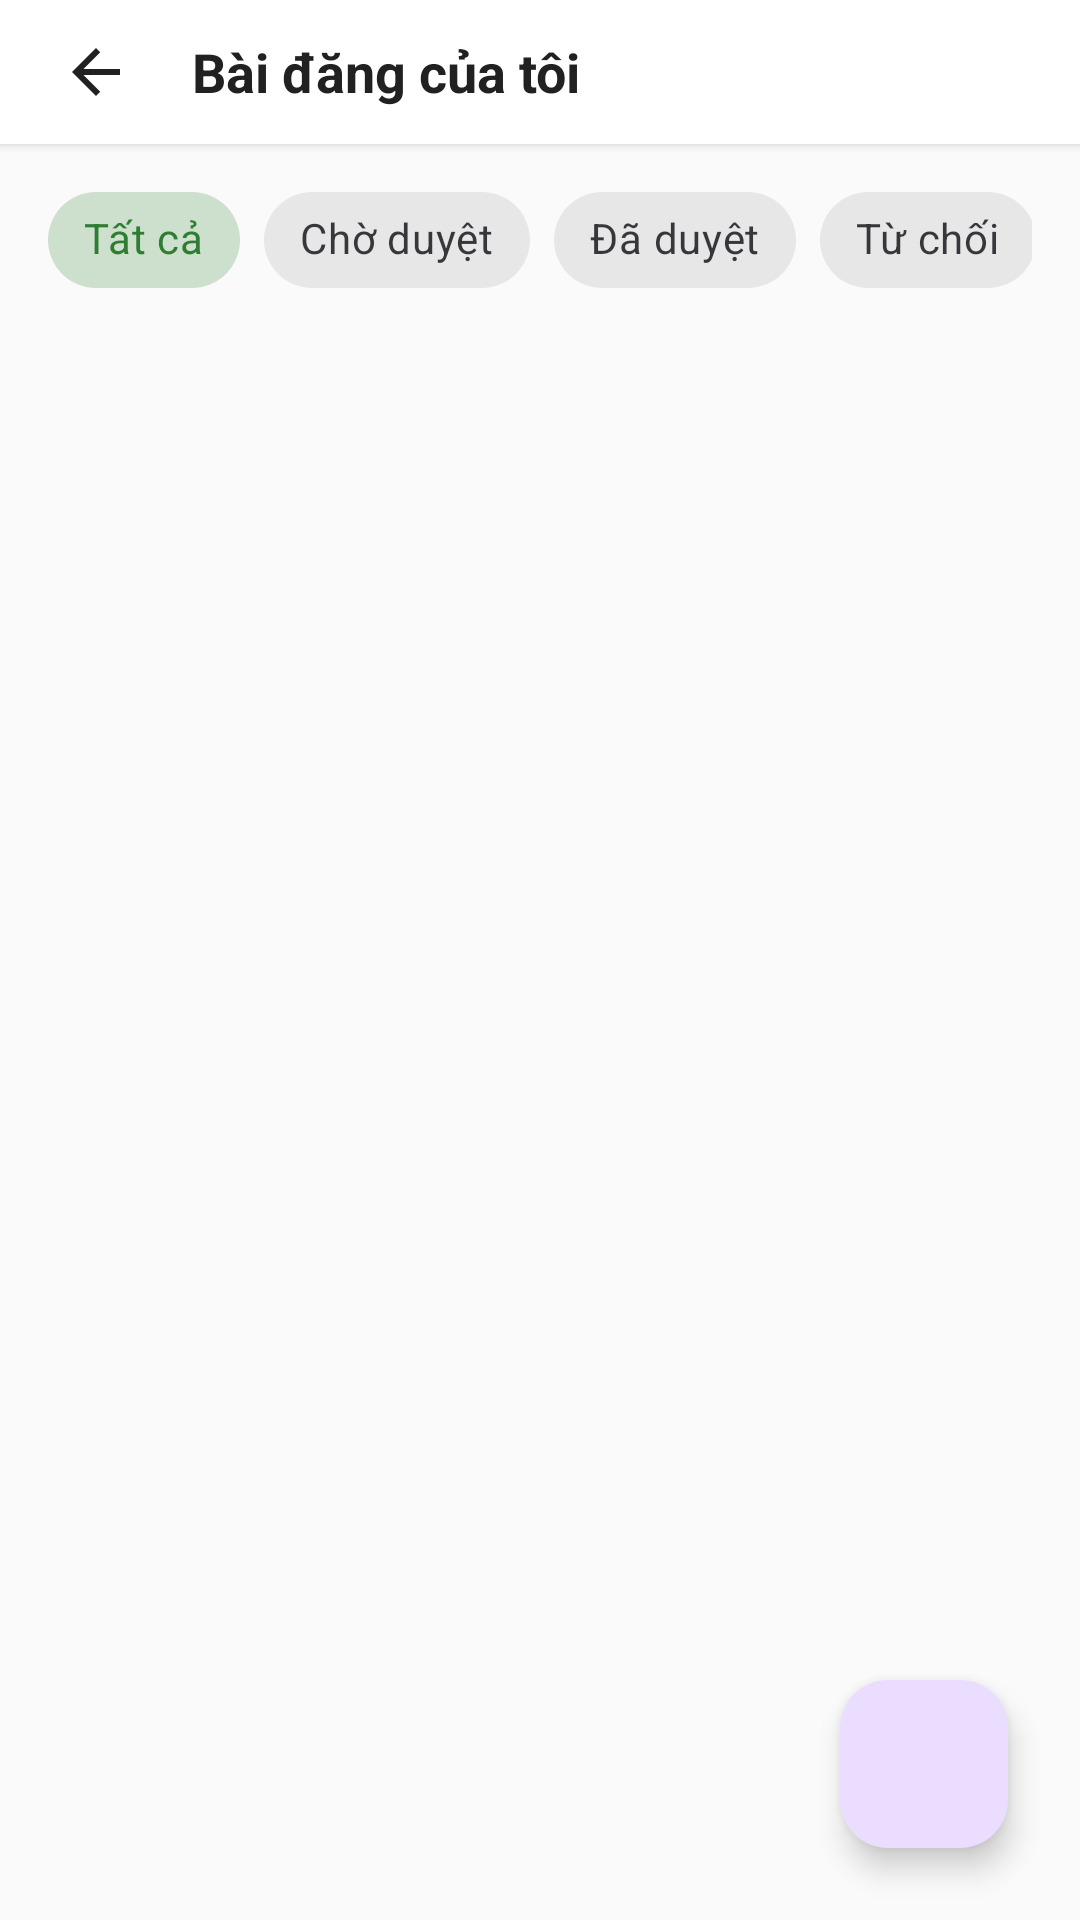

Point at icon controls on the screen. Image size 1080w x 1920h, points as (x,y).
arrow back: (96,72)
